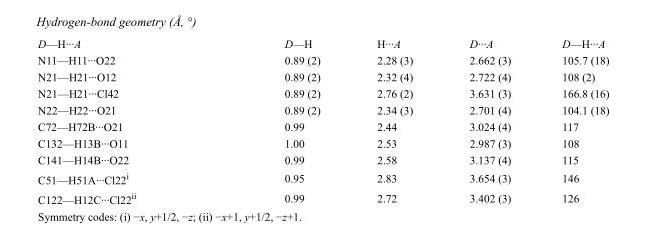table: (37, 36, 608, 205)
table column: (37, 36, 209, 205), (209, 36, 347, 205), (440, 36, 535, 205), (347, 36, 440, 205), (535, 36, 608, 205)
table row: (37, 168, 608, 187), (37, 187, 608, 205), (37, 51, 608, 68), (37, 84, 608, 101), (37, 117, 608, 134), (37, 134, 608, 151), (37, 151, 608, 168), (37, 68, 608, 84), (37, 101, 608, 117), (37, 36, 608, 51)
